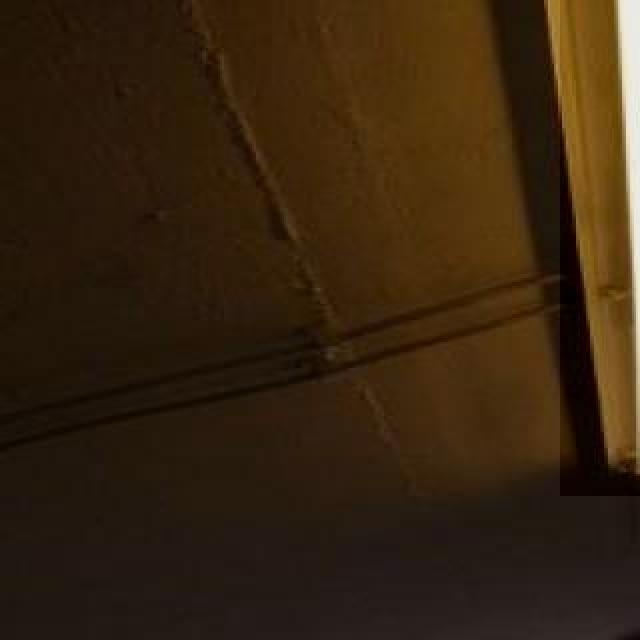fluorescent tube: (578, 0, 640, 500)
